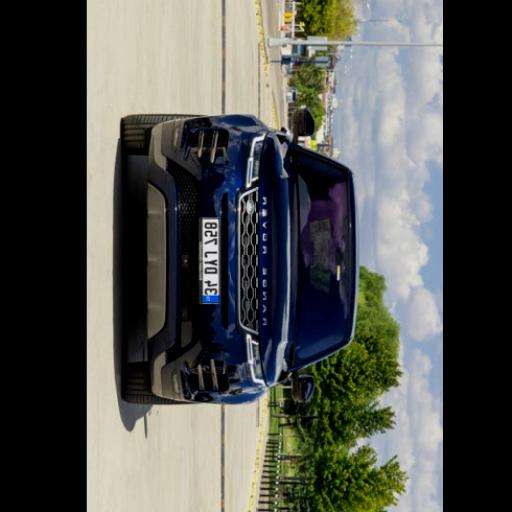car: (287, 88, 298, 102)
suv: (121, 111, 358, 405)
